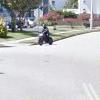Motorcycle: (32, 25, 54, 52)
